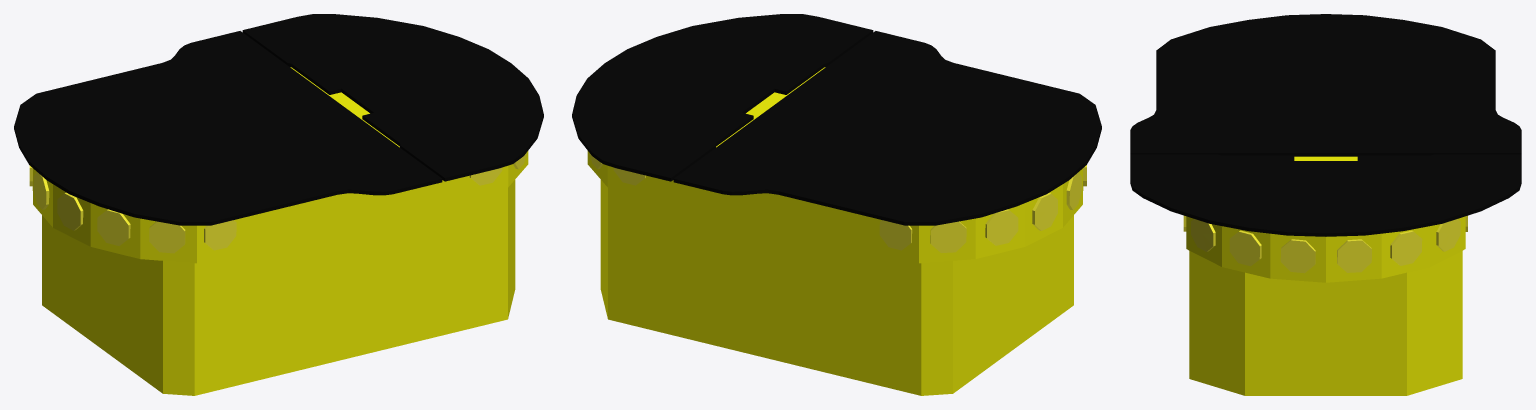
Rendered from chassis_y.dae.
The picture shows the model from 3 angles, left to right: view 1: azimuth 30°, elevation 25°; view 2: azimuth 150°, elevation 25°; view 3: azimuth 270°, elevation 25°; orthographic projection. The views are drawn at different scales.
Visible parts, largest first — view 1: chassis_top, chassis, sonarbank_001; view 2: chassis_top, chassis, sonarbank_001; view 3: chassis_top, chassis, sonarbank.
Part boxes in pixels (x1,y1,x2,y2): chassis_top: [14, 14, 543, 225]; chassis: [32, 67, 528, 395]; sonarbank_001: [29, 165, 236, 253]; chassis_top: [572, 14, 1101, 225]; chassis: [587, 67, 1083, 395]; sonarbank_001: [879, 165, 1086, 252]; chassis_top: [1130, 14, 1521, 236]; chassis: [1186, 156, 1465, 395]; sonarbank: [1183, 215, 1467, 273].
Bounding box in the file's own units: 0.5082 × 0.3831 × 0.195.
